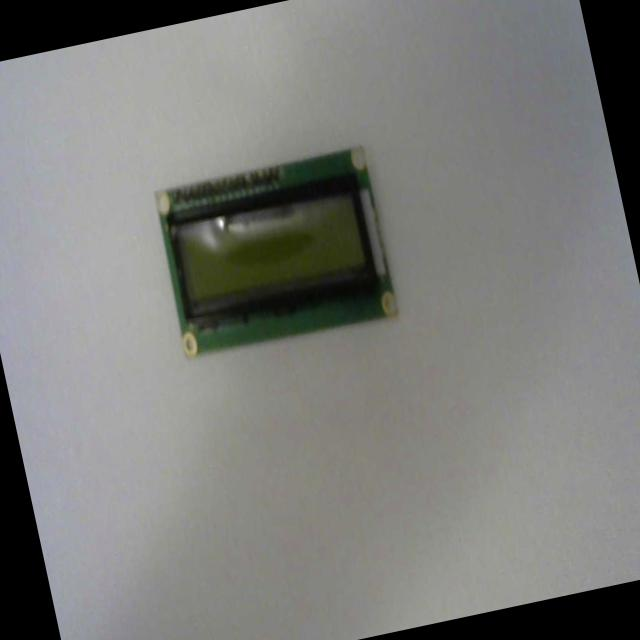lcd: (148, 141, 400, 362)
